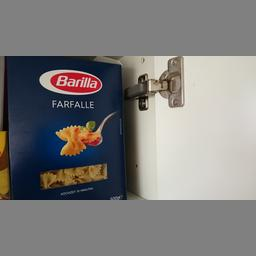pasta: (2, 56, 124, 198)
